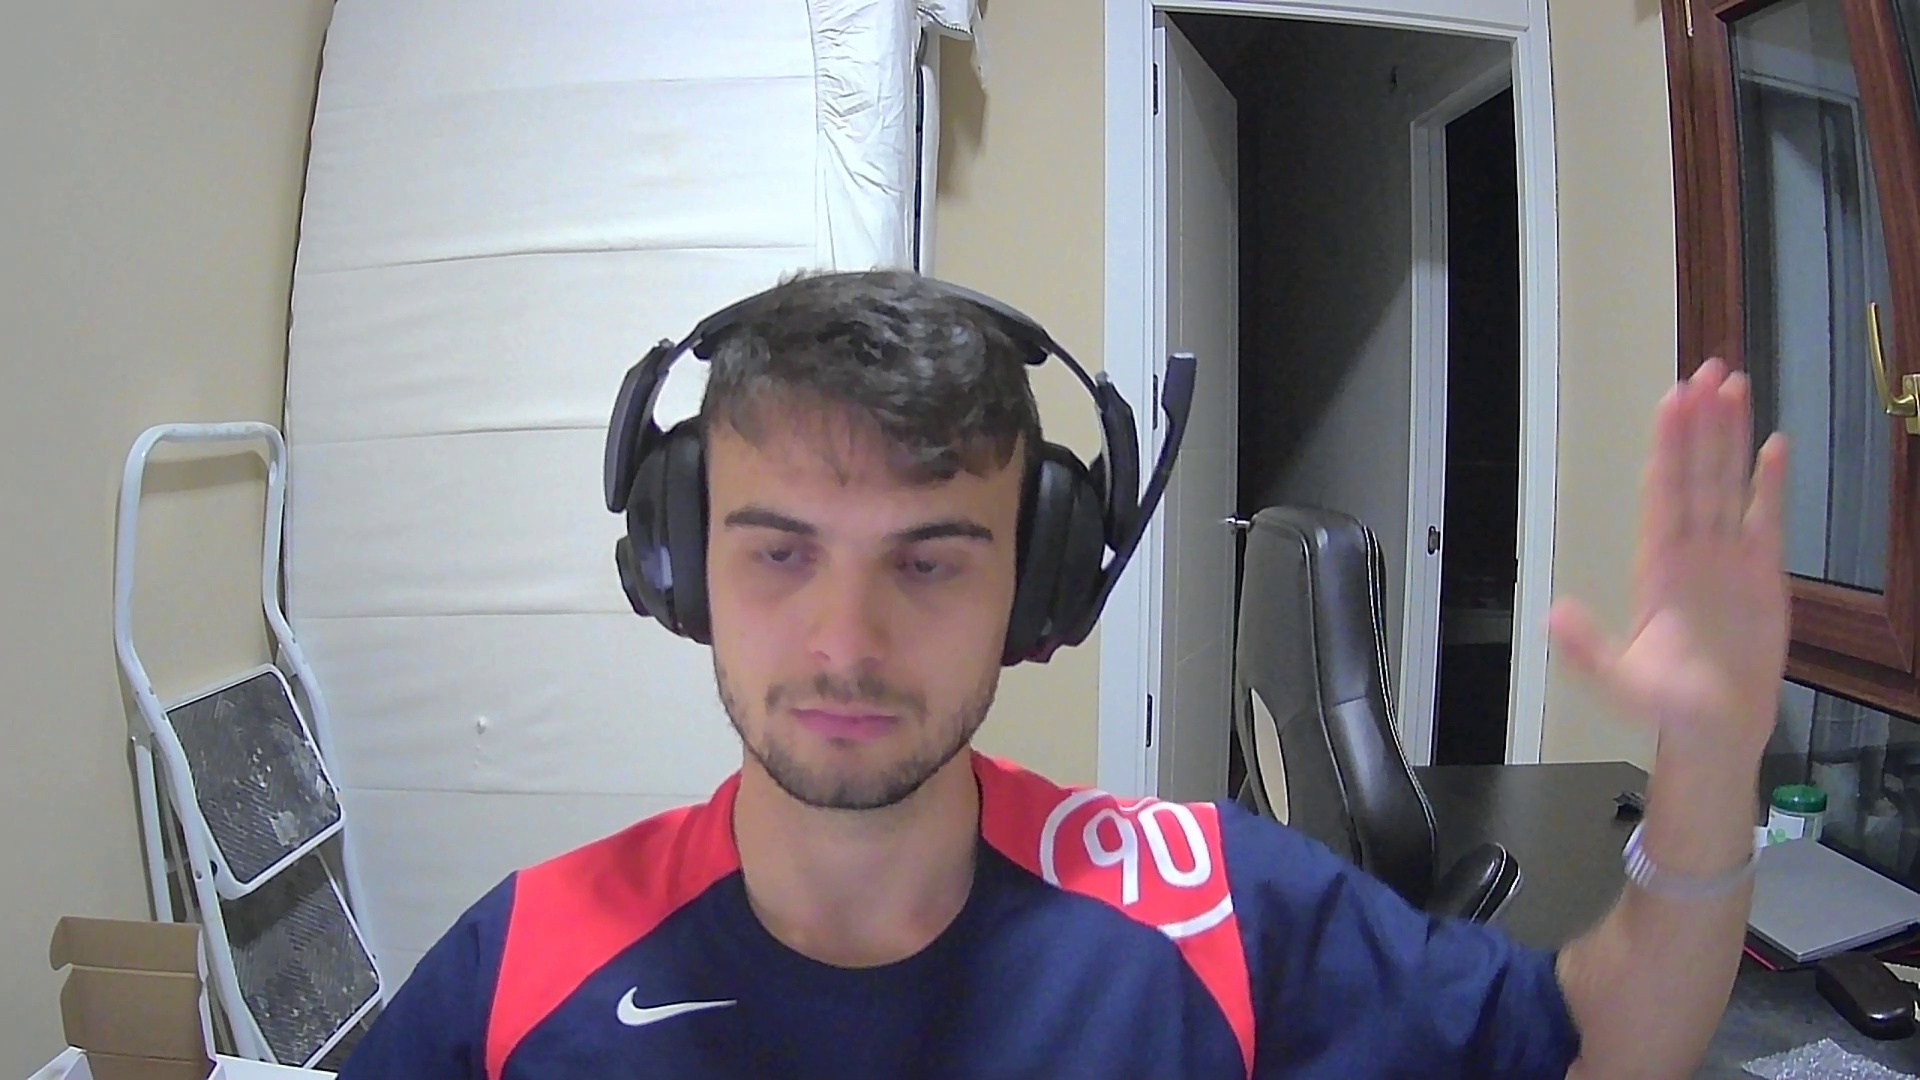Palm: (1547, 353, 1808, 773)
